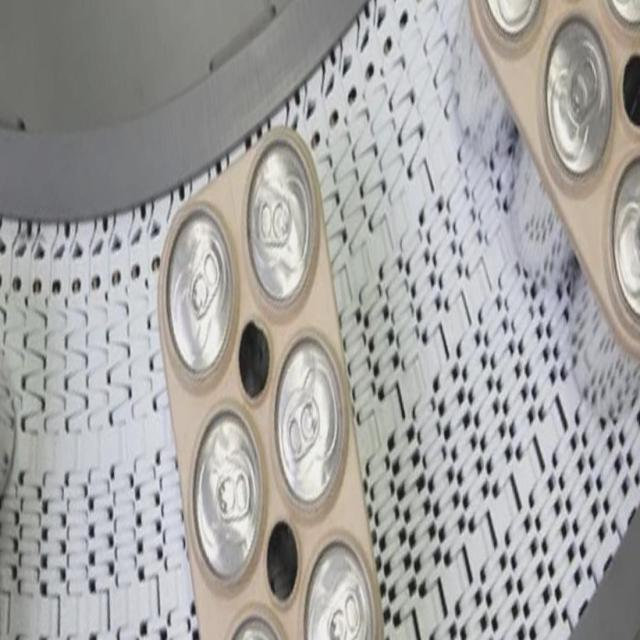bottle: (156, 123, 384, 638), (466, 0, 638, 365)
